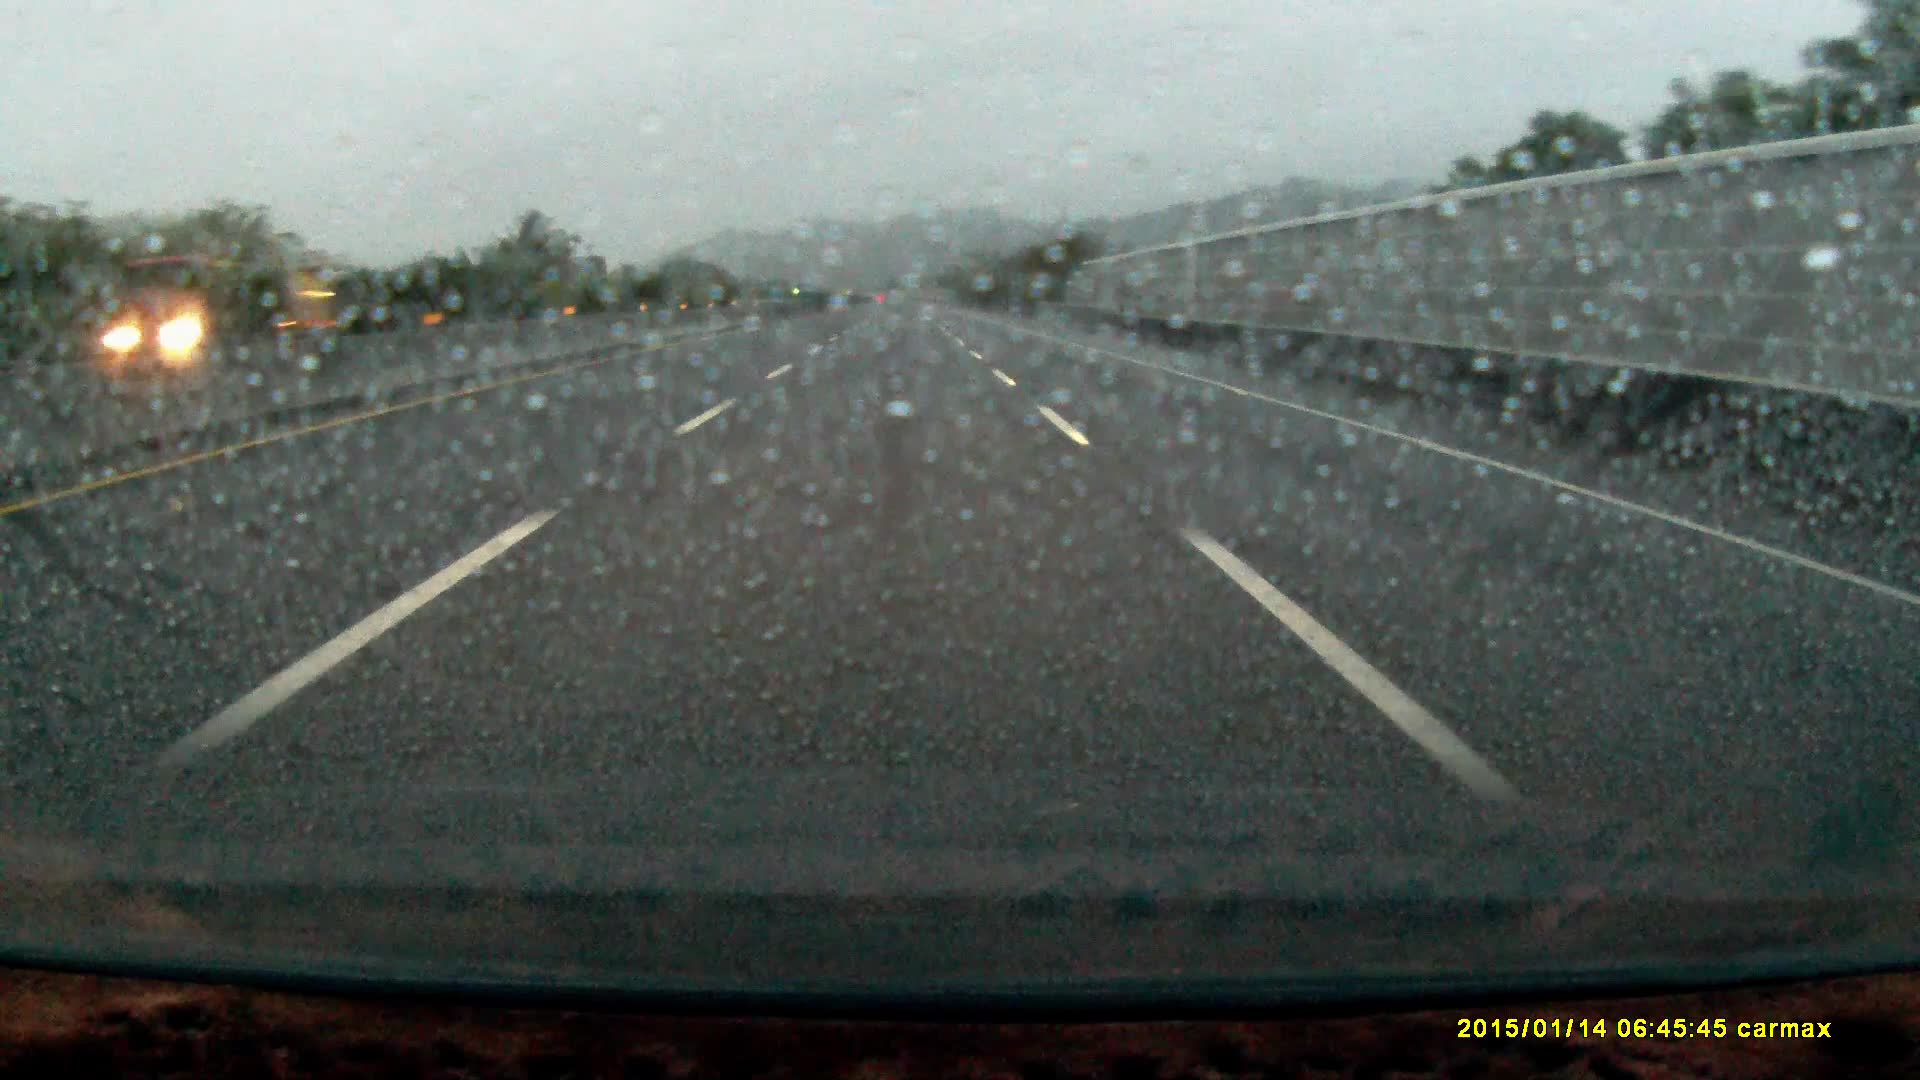vehicle: (96, 253, 340, 376)
